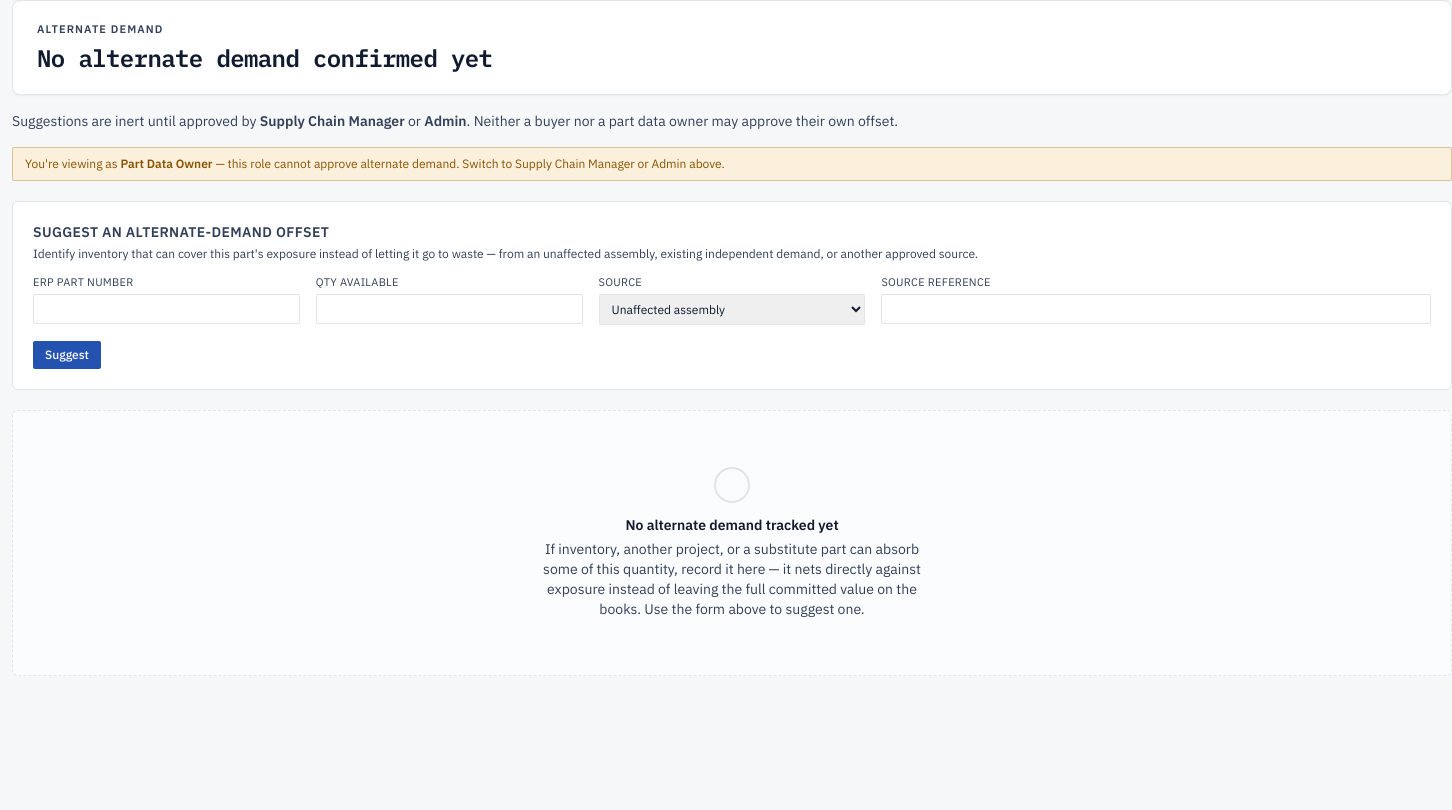
Test case: AlternateDemandClient › shows an error instead of silence when the action fails
The image size is (1452, 810).
Type "771-4471" into the field labelled "ERP part number". click: (166,309)
box: 33,294 -> 300,324
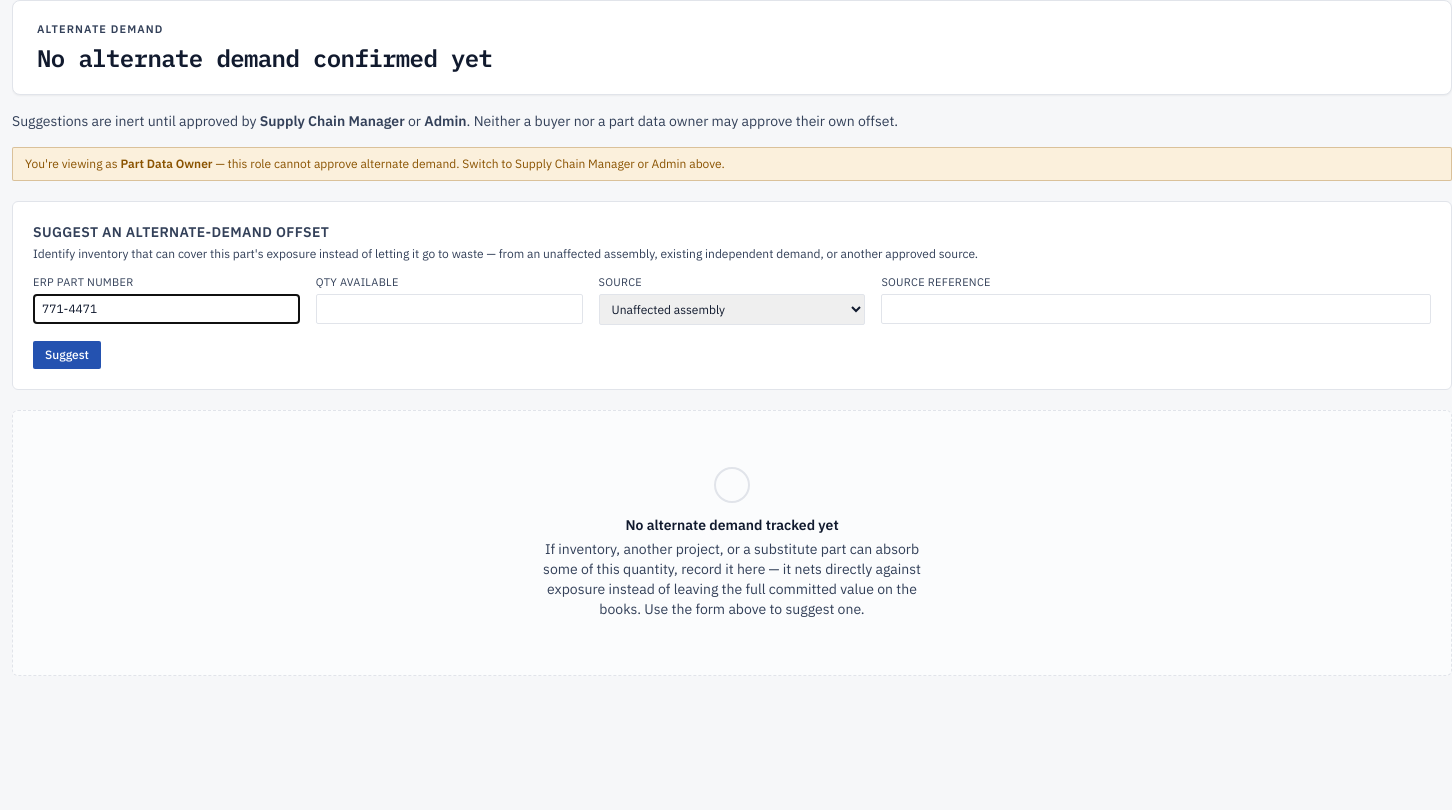
Type "50" into the number field labelled "Qty available". click: (449,309)
box: 316,294 -> 583,324
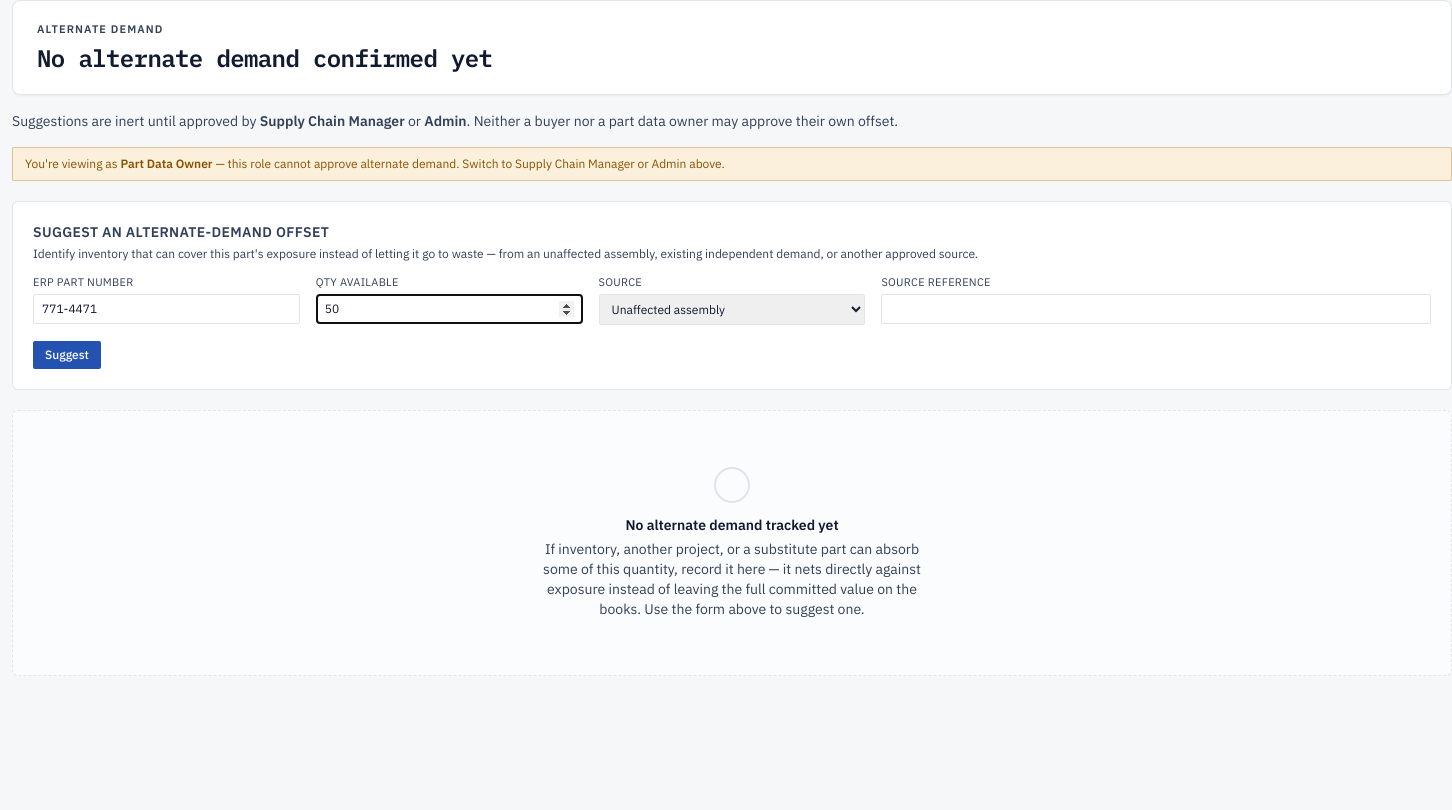
Click the button "Suggest". click: (67,355)
box: 33,341 -> 101,369
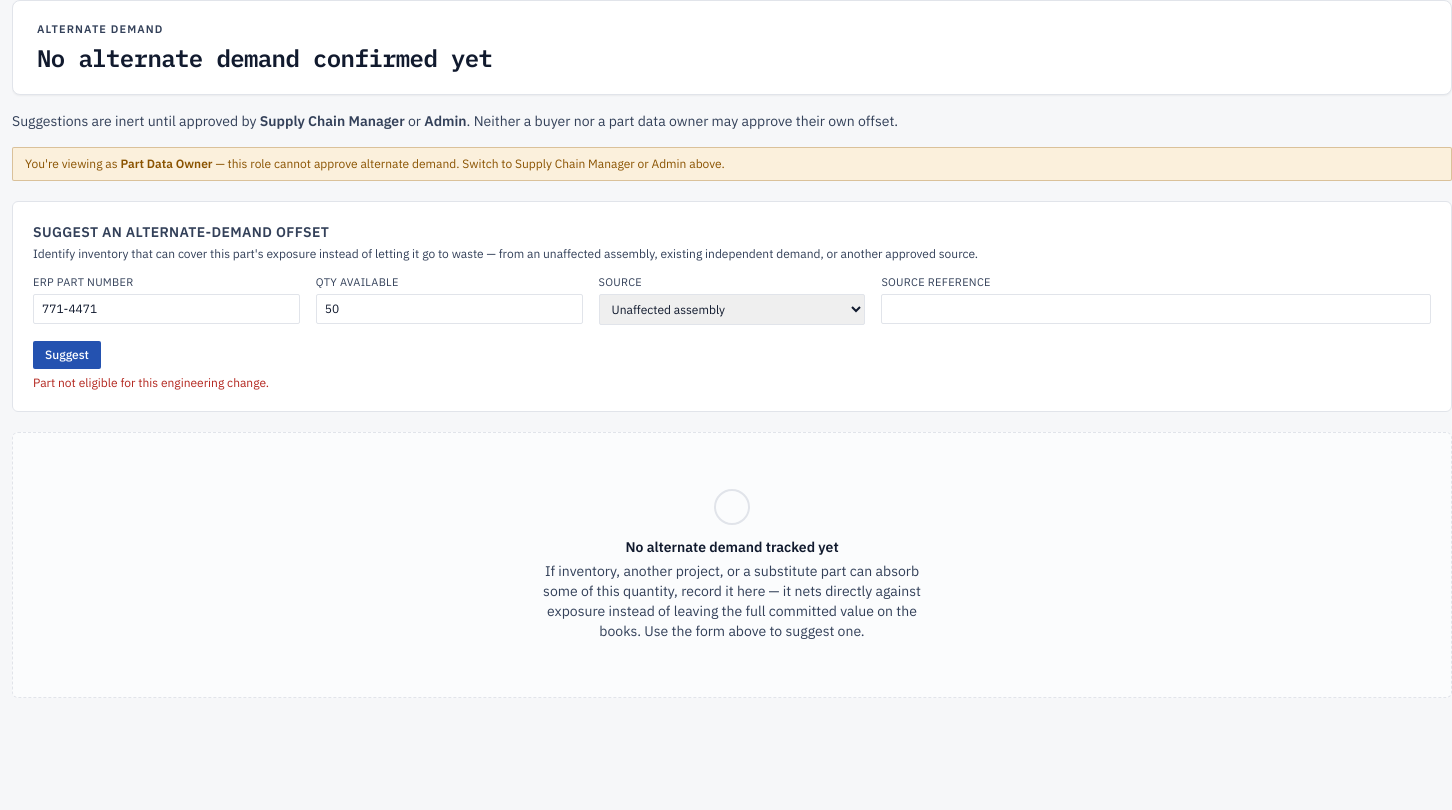
Result: the text "Part not eligible for this engineering change." is shown at 33,375 -> 269,390
